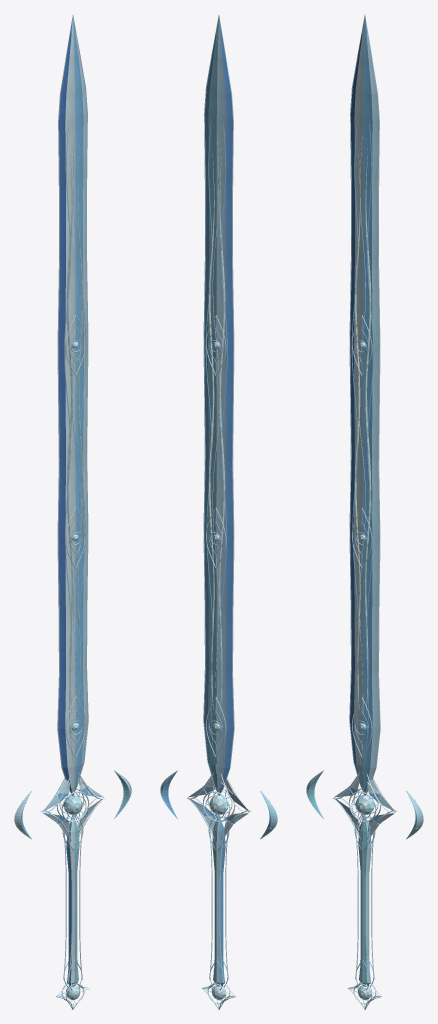
Rendered from heart_sword.obj.
3 views of the same model, side by side, from view 1: azimuth 30°, elevation 25°; view 2: azimuth 150°, elevation 25°; view 3: azimuth 330°, elevation 25° (orthographic).
Parts seen in each view (by area): view 1: blade_translucent_facets, blade_silver_edges, blade_flowing_meridians, blade_inner_light_ribbons, grip_tapered_prism, grip_flowing_filigree, guard_crystal_petals, guard_star_lattice, heart_node_3_eye_setting, heart_node_1_eye_setting, heart_node_2_eye_setting; view 2: blade_translucent_facets, blade_silver_edges, blade_flowing_meridians, blade_inner_light_ribbons, grip_tapered_prism, grip_flowing_filigree, guard_star_lattice, guard_crystal_petals, heart_node_3_eye_setting, heart_node_1_eye_setting, heart_node_2_eye_setting; view 3: blade_translucent_facets, blade_silver_edges, blade_flowing_meridians, blade_inner_light_ribbons, grip_tapered_prism, grip_flowing_filigree, guard_crystal_petals, guard_star_lattice, heart_node_3_eye_setting, heart_node_1_eye_setting, heart_node_2_eye_setting.
Part boxes in pixels (x1,y1,x2,y2): blade_translucent_facets: [58, 15, 87, 795]; blade_silver_edges: [57, 19, 88, 794]; blade_flowing_meridians: [64, 15, 86, 773]; blade_inner_light_ribbons: [66, 145, 83, 713]; grip_tapered_prism: [66, 815, 79, 986]; grip_flowing_filigree: [62, 814, 83, 990]; guard_crystal_petals: [42, 776, 103, 835]; guard_star_lattice: [40, 772, 105, 840]; heart_node_3_eye_setting: [65, 315, 85, 375]; heart_node_1_eye_setting: [65, 697, 85, 757]; heart_node_2_eye_setting: [65, 507, 85, 568]; blade_translucent_facets: [204, 15, 233, 795]; blade_silver_edges: [203, 20, 234, 795]; blade_flowing_meridians: [205, 15, 227, 773]; blade_inner_light_ribbons: [208, 148, 225, 712]; grip_tapered_prism: [212, 815, 225, 986]; grip_flowing_filigree: [208, 814, 229, 990]; guard_star_lattice: [186, 772, 251, 840]; guard_crystal_petals: [188, 776, 249, 835]; heart_node_3_eye_setting: [206, 315, 226, 375]; heart_node_1_eye_setting: [206, 697, 226, 757]; heart_node_2_eye_setting: [206, 507, 226, 568]; blade_translucent_facets: [350, 15, 379, 795]; blade_silver_edges: [349, 20, 380, 795]; blade_flowing_meridians: [351, 15, 373, 773]; blade_inner_light_ribbons: [354, 148, 371, 712]; grip_tapered_prism: [358, 815, 371, 986]; grip_flowing_filigree: [354, 814, 375, 990]; guard_crystal_petals: [334, 776, 395, 835]; guard_star_lattice: [332, 772, 397, 840]; heart_node_3_eye_setting: [352, 315, 372, 375]; heart_node_1_eye_setting: [352, 697, 372, 757]; heart_node_2_eye_setting: [352, 507, 372, 568].
Size of the model in its own units: 0.2316 by 1.88 by 0.0329.
